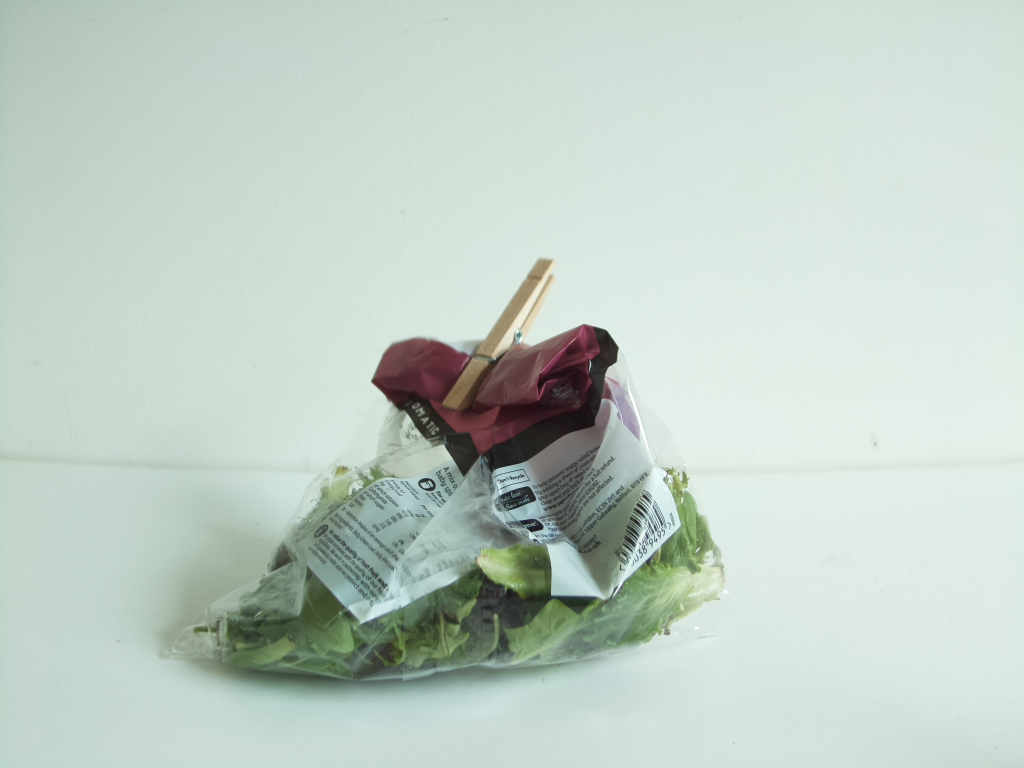salad: (191, 347, 733, 680)
